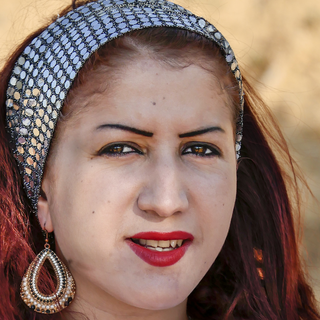eye: (95, 138, 149, 163), (176, 139, 224, 164)
